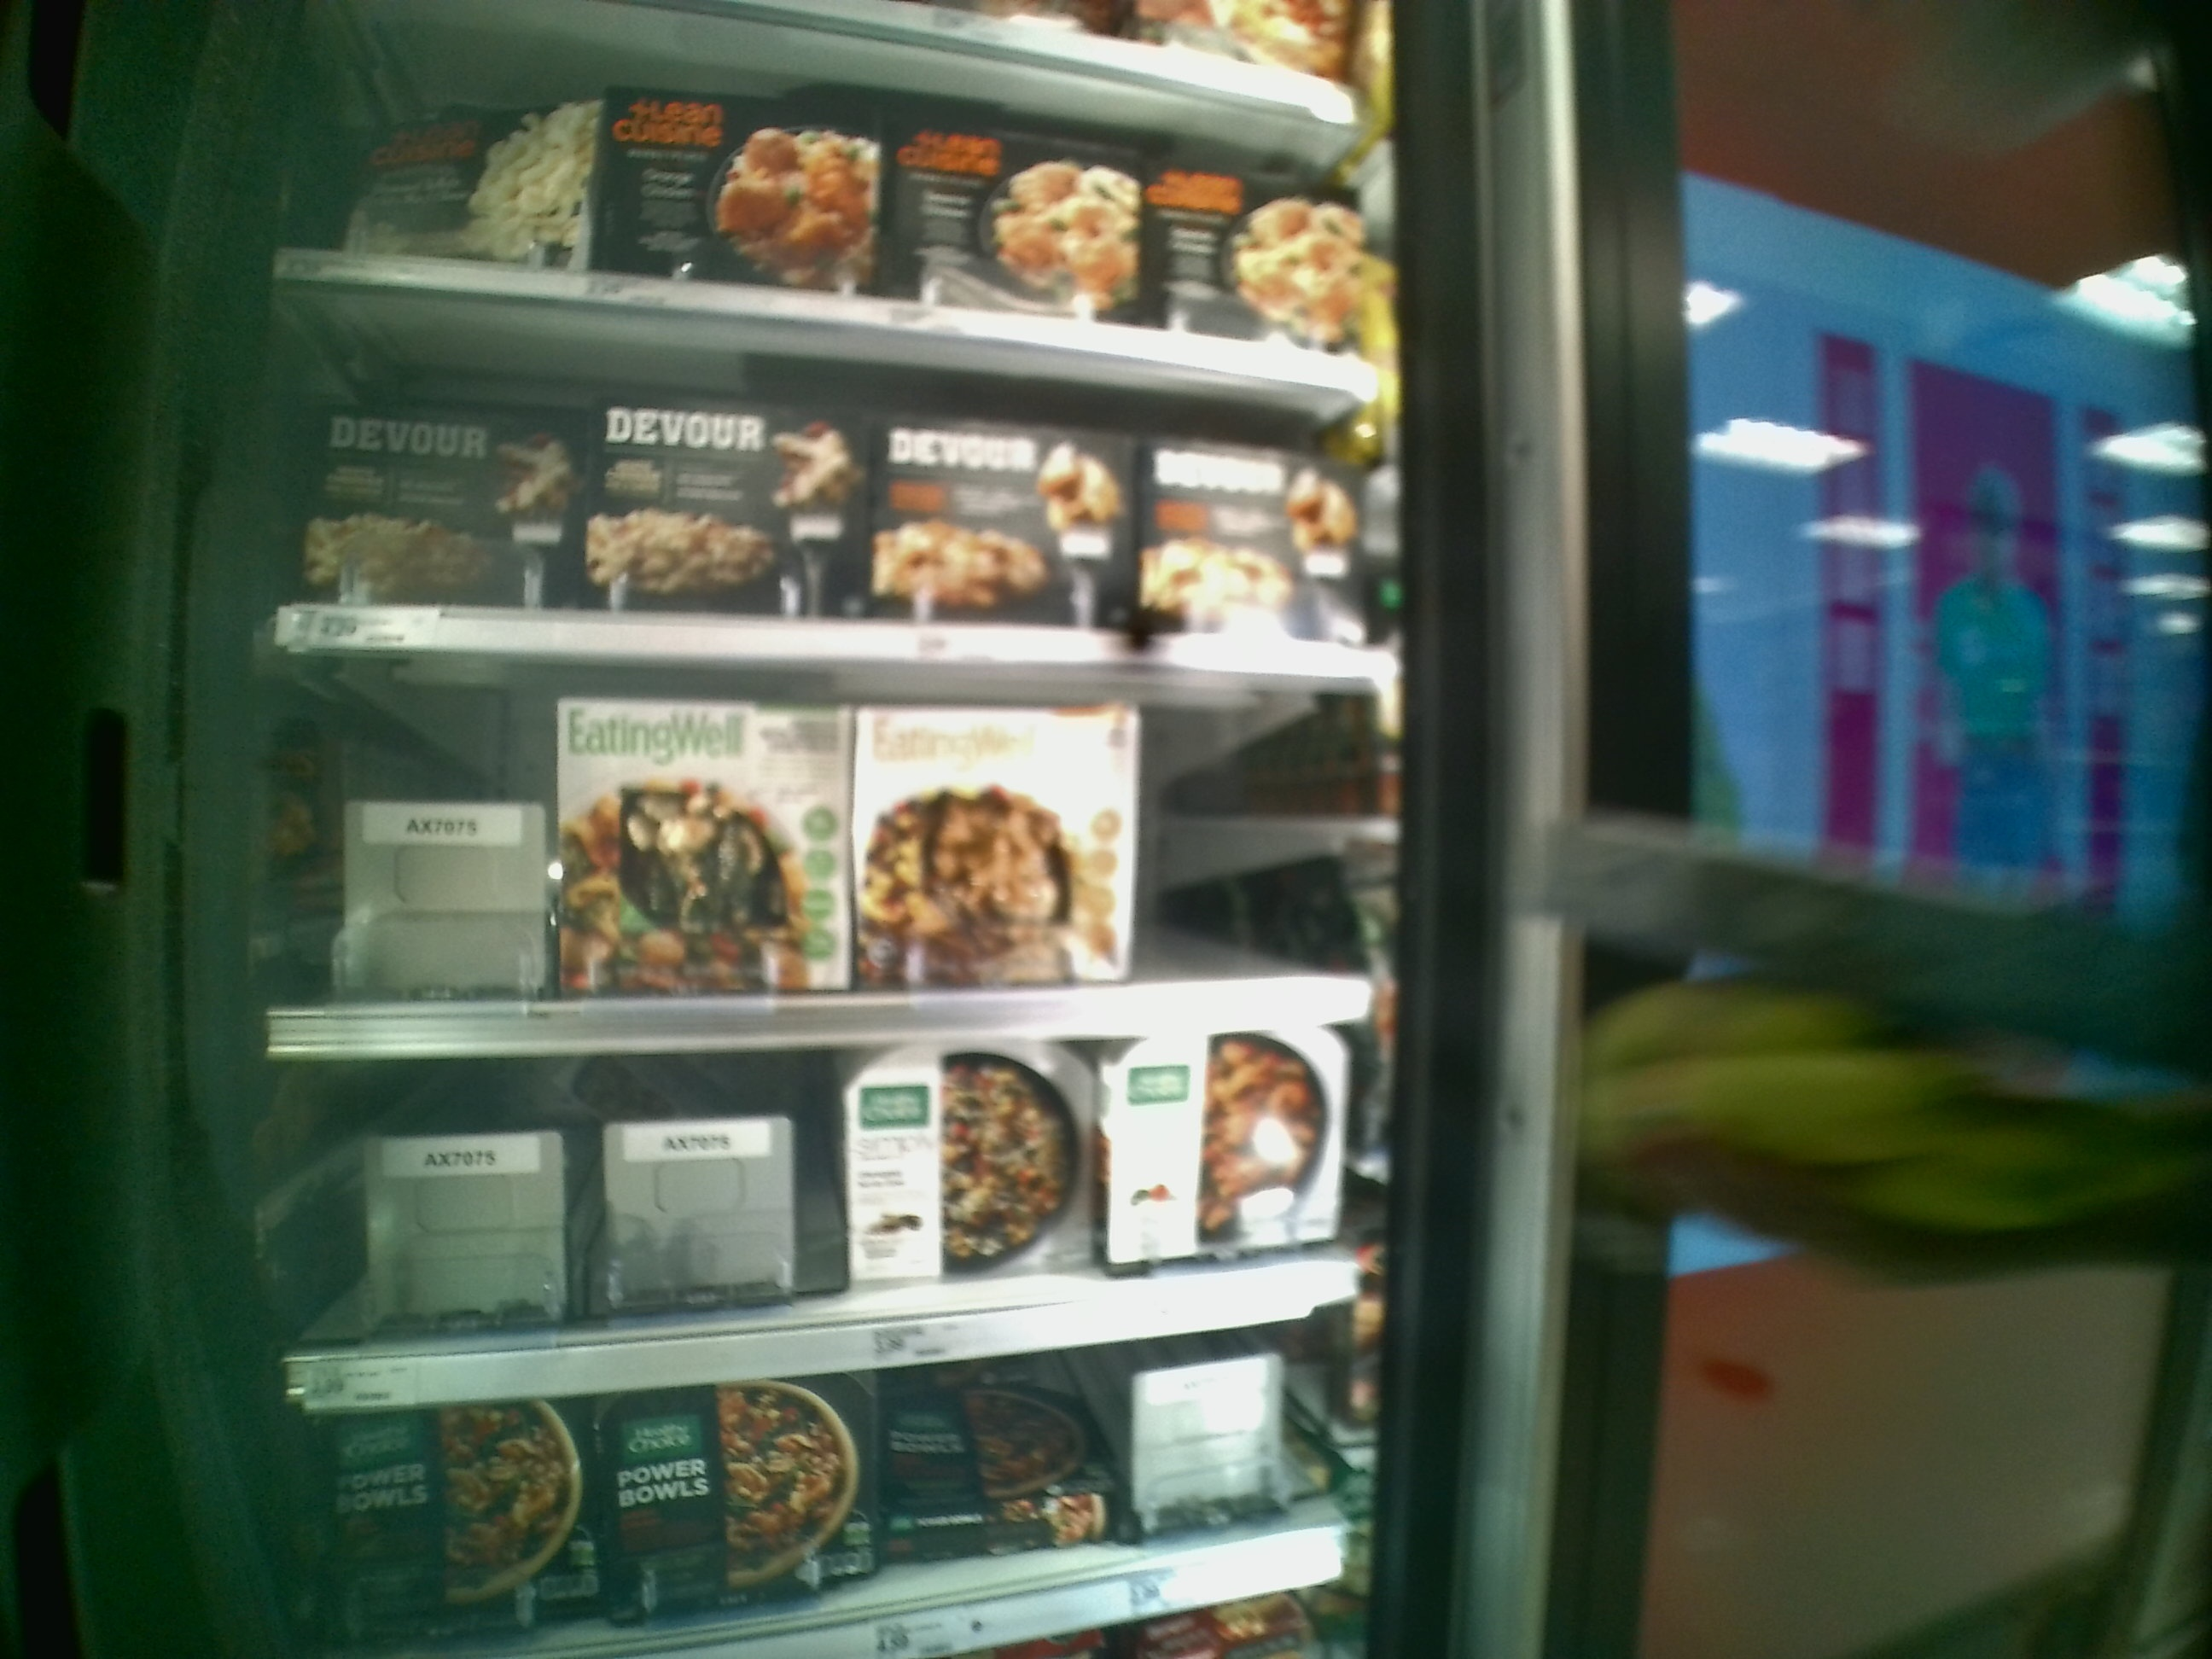shelf: (273, 643, 1406, 1060), (251, 277, 1395, 673), (265, 1007, 1388, 1410)
